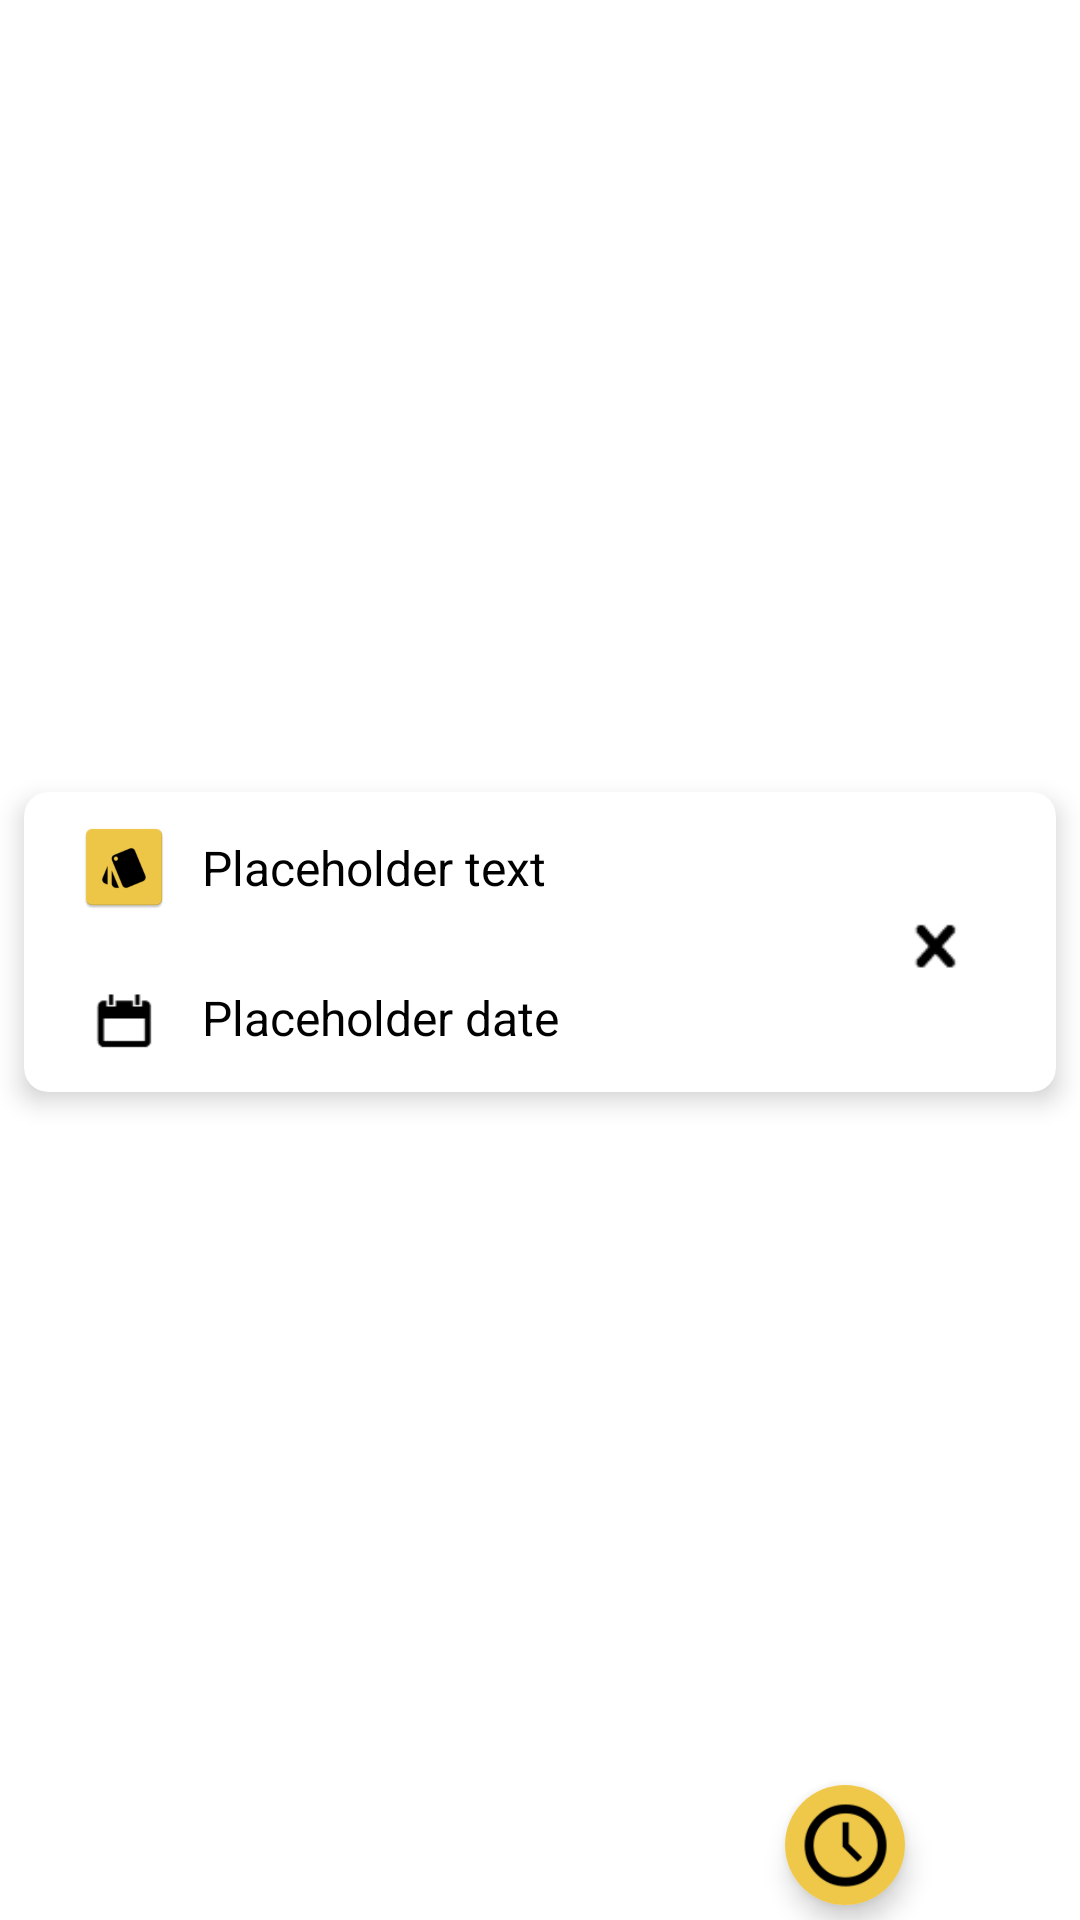

Screen size 1080*1920. Icon name, then its box in pixels as [x1, y1, x2, y2]:
calendar: [97, 994, 152, 1048]
